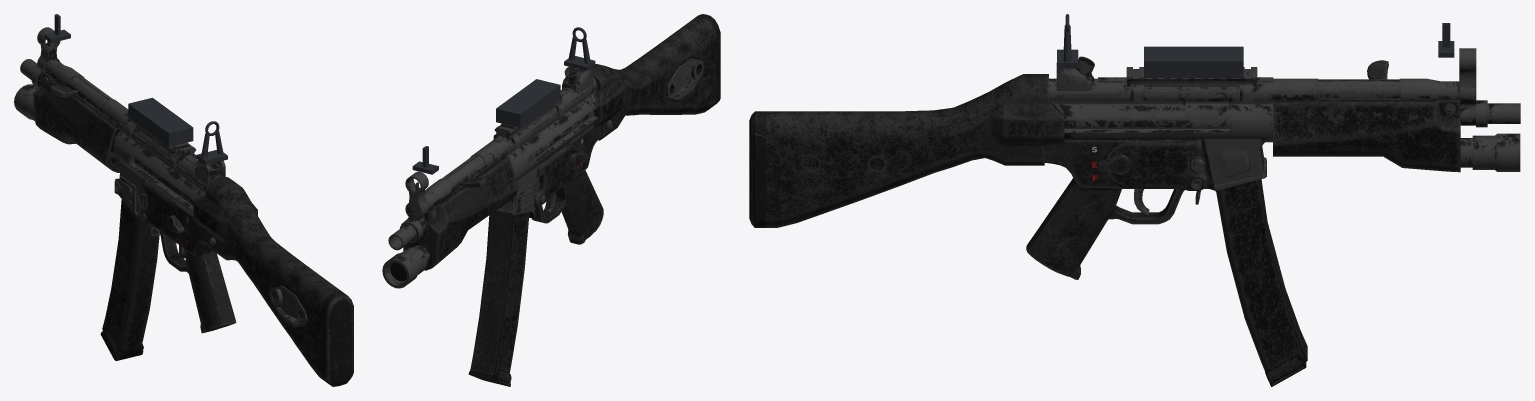
3 renders of one model, left to right at view 1: azimuth 30°, elevation 25°; view 2: azimuth 150°, elevation 25°; view 3: azimuth 270°, elevation 25°, orthographic. The views are drawn at different scales.
Parts seen in each view (by area): view 1: body, mag, rearsight, charge; view 2: body, mag, rearsight, charge; view 3: body, mag, rearsight.
Part boxes in pixels (box(x1,y1,x2,y2)): body: box(14, 14, 353, 386); mag: box(100, 199, 159, 360); rearsight: box(196, 121, 227, 164); charge: box(49, 83, 111, 117); body: box(382, 14, 720, 288); mag: box(468, 211, 529, 386); rearsight: box(564, 27, 595, 70); charge: box(451, 153, 494, 193); body: box(749, 23, 1520, 279); mag: box(1216, 179, 1307, 386); rearsight: box(1057, 14, 1078, 67).
Size of the model in its own units: 0.0598 by 0.3024 by 0.58.
3 materials, 2 textured.
